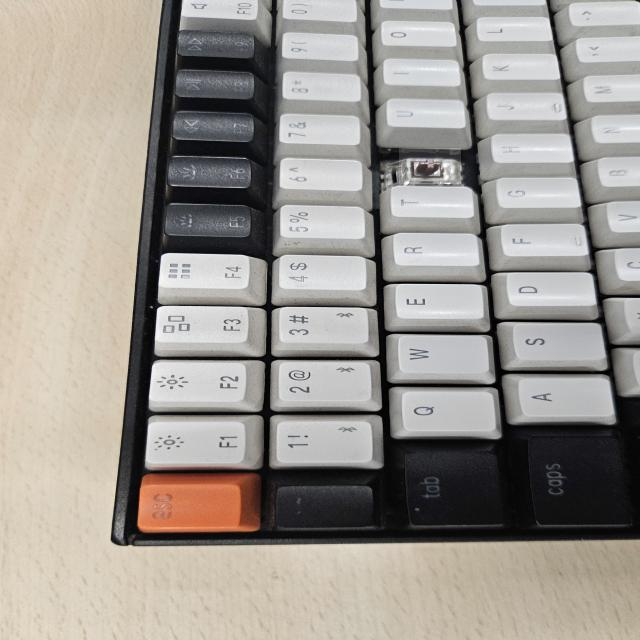C: (399, 148, 461, 184)
